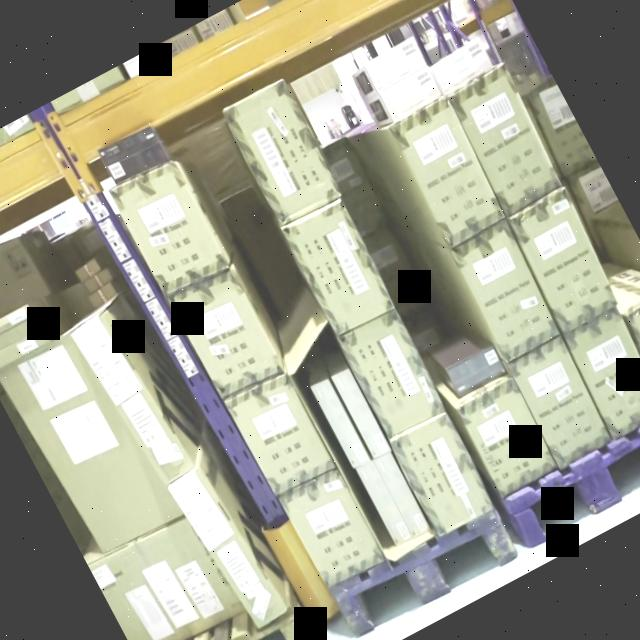box: (4, 332, 170, 556), (222, 80, 342, 223), (446, 65, 562, 211), (392, 100, 504, 243), (167, 264, 282, 401), (283, 200, 395, 336), (112, 161, 226, 293), (509, 192, 616, 330), (450, 222, 558, 358), (338, 309, 446, 436), (508, 336, 612, 462), (228, 374, 332, 494), (279, 467, 383, 587), (392, 414, 495, 534), (457, 378, 558, 494), (562, 309, 640, 435), (332, 368, 390, 456), (312, 379, 370, 466), (373, 451, 430, 536), (358, 462, 412, 545), (99, 124, 167, 185), (379, 67, 442, 120), (364, 40, 424, 90), (447, 344, 506, 394), (432, 42, 490, 89), (0, 328, 49, 374), (0, 316, 40, 358), (0, 302, 33, 349)
